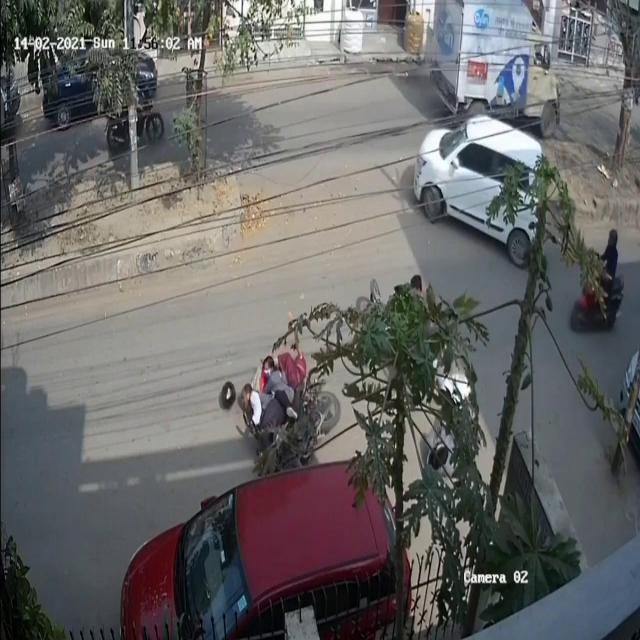accident: (215, 334, 339, 494)
